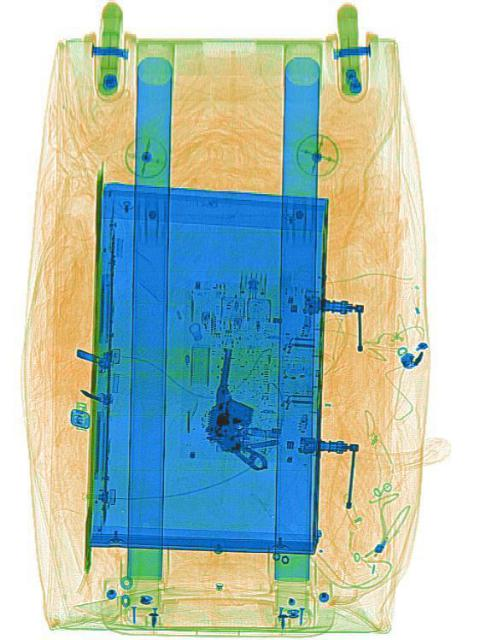Gun: (200, 344, 274, 471)
